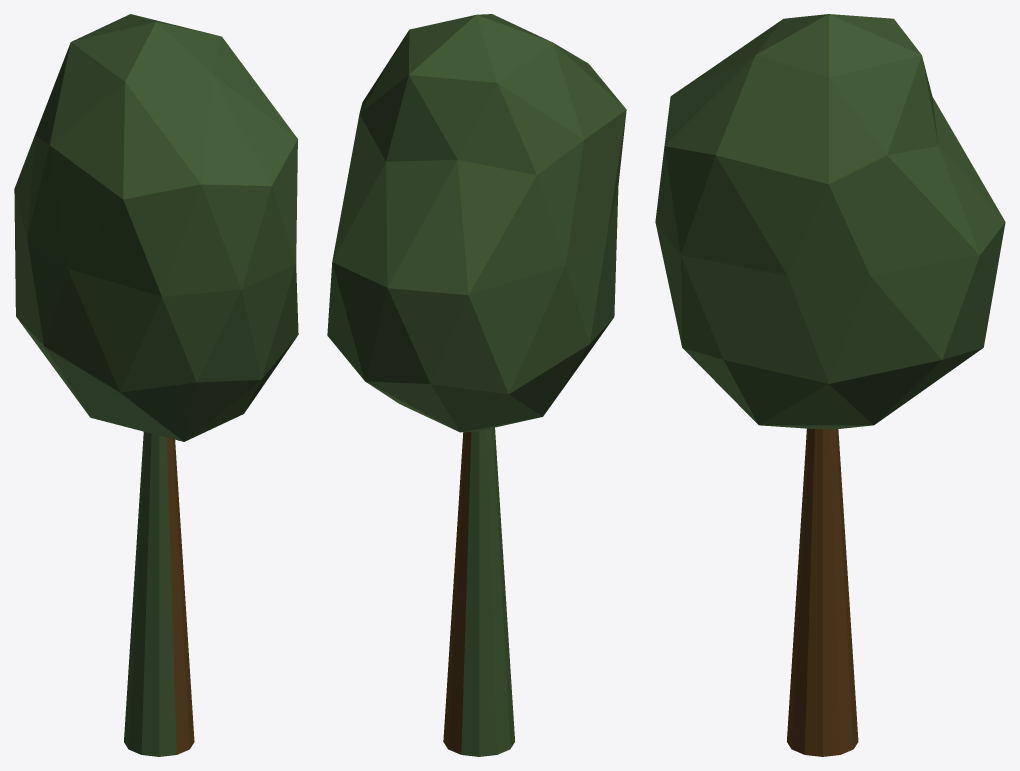
The model's file is ARVOREEXEMPLO1.fbx.
3 renders of one model, left to right at view 1: azimuth 30°, elevation 25°; view 2: azimuth 150°, elevation 25°; view 3: azimuth 270°, elevation 25°, orthographic.
Parts seen in each view (by area): view 1: Cylinder; view 2: Cylinder; view 3: Cylinder.
Boxes of the visible parts, x1,y1,x2,y2 form: Cylinder: (14,14,298,756); Cylinder: (327,14,626,756); Cylinder: (655,14,1005,756).
Bounding box in the file's own units: 74.77 × 229 × 99.91.
